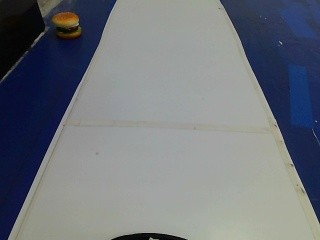burger: (45, 8, 86, 42)
